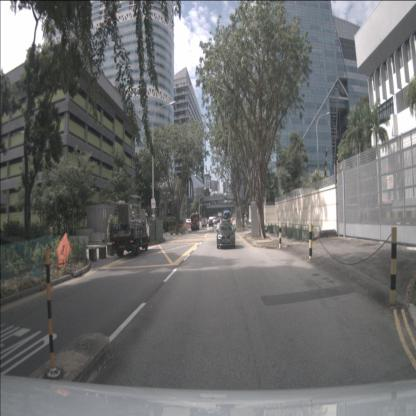vehicle-bus-rigid: (191, 214, 199, 230), (223, 210, 230, 226)
vehicle-car: (216, 222, 236, 249), (208, 217, 218, 225), (186, 219, 195, 226), (208, 219, 214, 227), (202, 218, 206, 228)
vehicle-truck: (107, 193, 150, 256), (217, 212, 222, 222)
